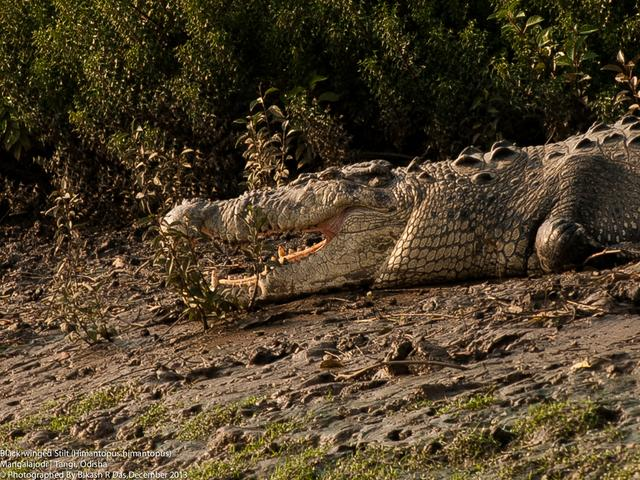crocodile: (141, 124, 640, 356)
